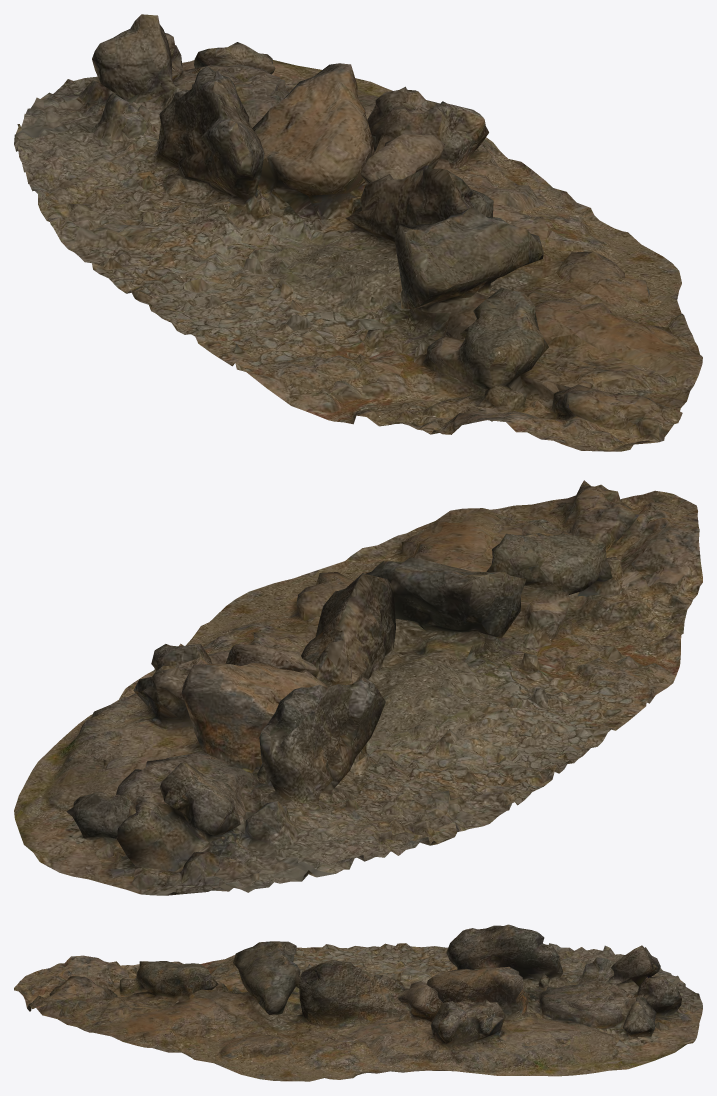
Rendered from coast_land_rocks_02.glb.
The picture shows the model from 3 angles, top to bottom: view 1: azimuth 30°, elevation 25°; view 2: azimuth 150°, elevation 25°; view 3: azimuth 270°, elevation 25°; orthographic projection. The views are drawn at different scales.
Parts seen in each view (by area): view 1: coast_land_rocks_02; view 2: coast_land_rocks_02; view 3: coast_land_rocks_02.
Boxes of the visible parts, x1,y1,x2,y2 form: coast_land_rocks_02: (14,14,702,451); coast_land_rocks_02: (14,480,702,895); coast_land_rocks_02: (14,924,702,1081).
Size of the model in its own units: 4.89 by 1.38 by 10.44.
Materials: 1 (1 with a texture image).
